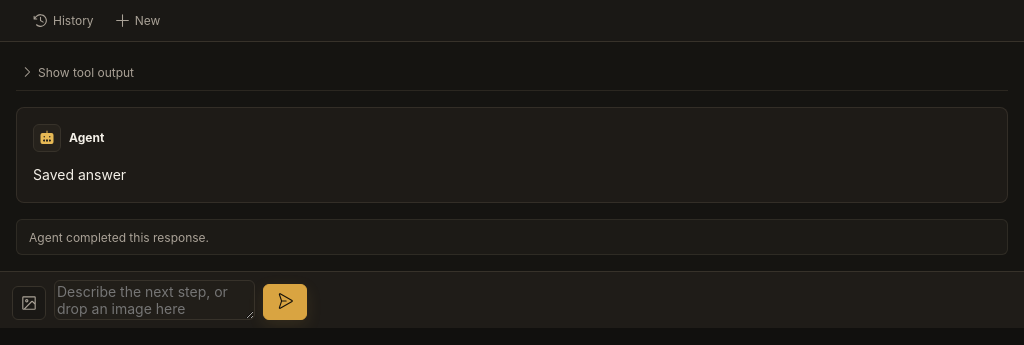
Test: AgentPanel › creates a separate empty conversation without discarding saved history
The width and height of the screenshot is (1024, 345).
Expected: the text "Saved answer" is shown, [33,166,126,183]
Click the button with aria-label "New conversation" at (137, 20), box [106,8,168,33]
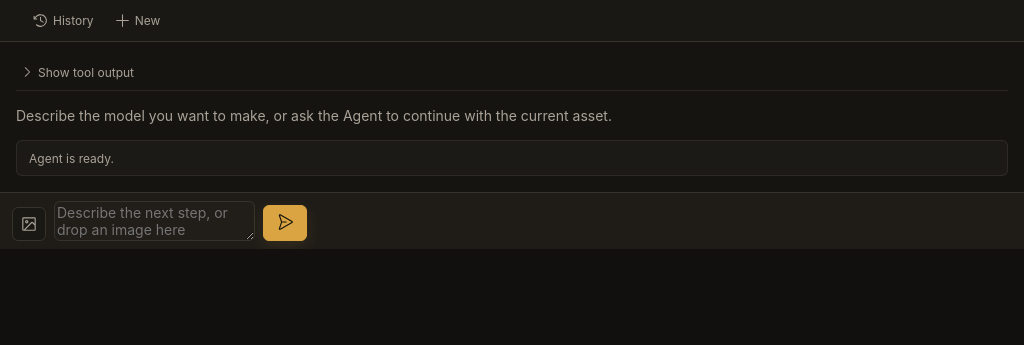
Click the button with aria-label "Conversation history" at (63, 20), box [24,8,102,33]
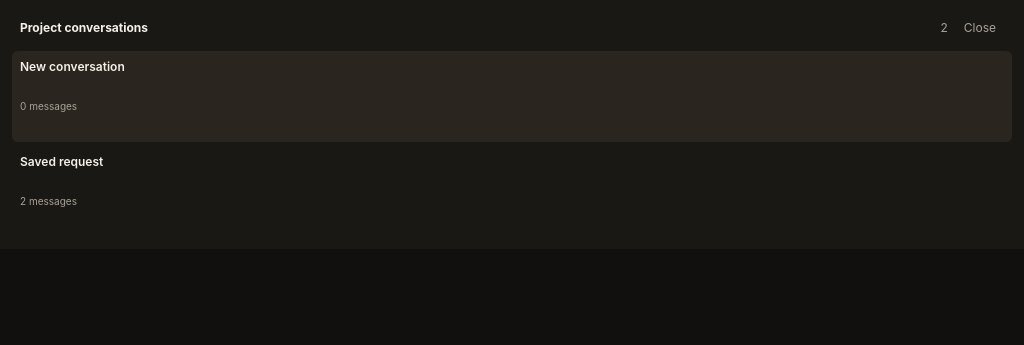
Now the text "Saved request" is shown, box [20,154,103,169]
Now the text "New conversation" is shown, box [20,59,125,74]
